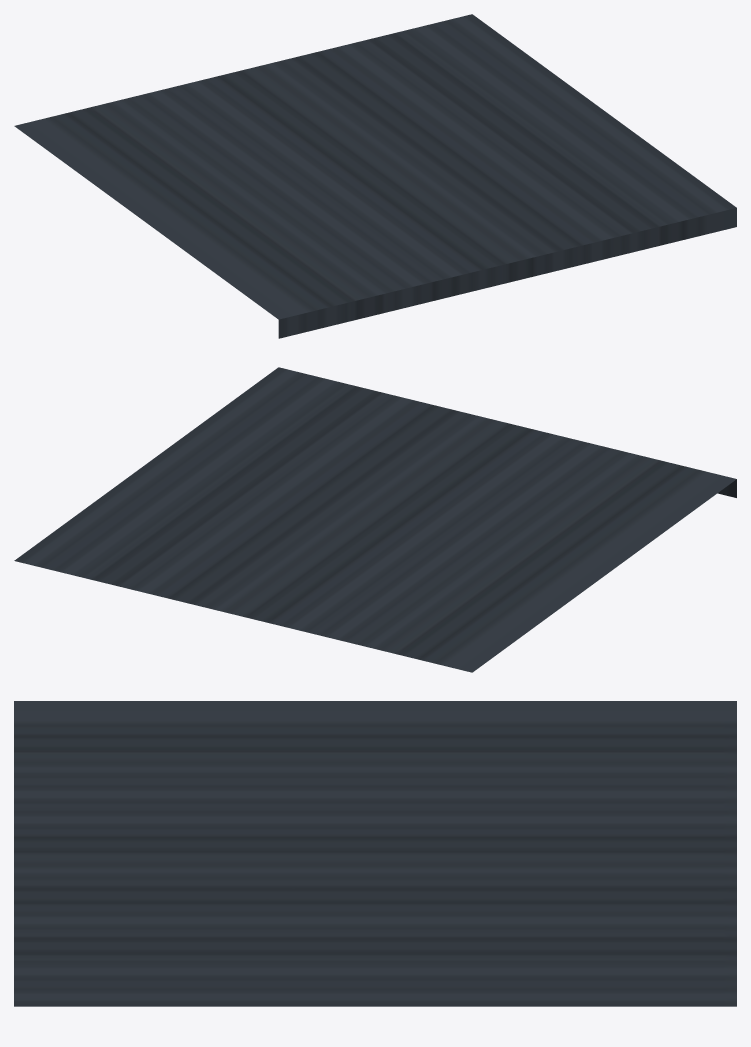
File: SM_Bld_House_Roof_Flat_01.fbx
The picture shows the model from 3 angles, top to bottom: view 1: azimuth 30°, elevation 25°; view 2: azimuth 150°, elevation 25°; view 3: azimuth 270°, elevation 25°; orthographic projection. The views are drawn at different scales.
Visible parts, largest first — view 1: SM_Bld_House_Roof_Flat_01; view 2: SM_Bld_House_Roof_Flat_01; view 3: SM_Bld_House_Roof_Flat_01.
Boxes of the visible parts, x1,y1,x2,y2 form: SM_Bld_House_Roof_Flat_01: (14, 14, 736, 338); SM_Bld_House_Roof_Flat_01: (14, 367, 736, 672); SM_Bld_House_Roof_Flat_01: (14, 701, 736, 1006).
Bounding box in the file's own units: 250 × 10 × 250.
